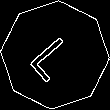L_NE: (26, 27, 84, 83)
